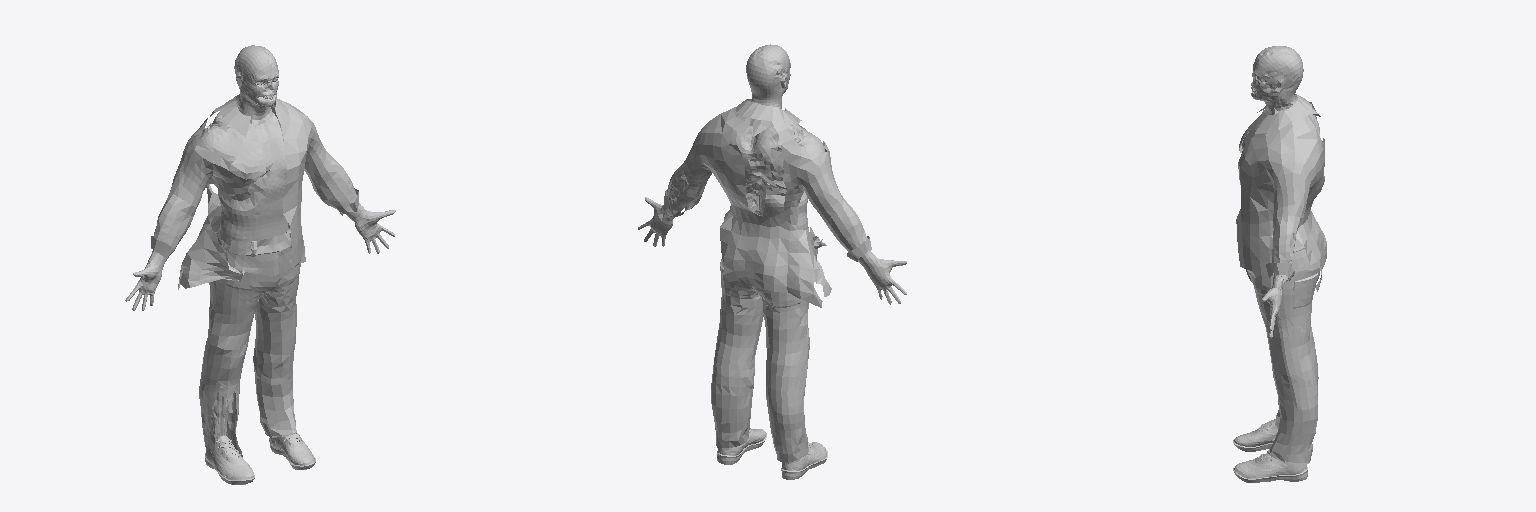
File: zom.obj
The picture shows the model from 3 angles: view 1: azimuth 30°, elevation 25°; view 2: azimuth 150°, elevation 25°; view 3: azimuth 270°, elevation 25°; orthographic projection.
Visible parts, largest first — view 1: zombi; view 2: zombi; view 3: zombi.
Part boxes in pixels (x1,y1,x2,y2): zombi: (125, 45, 395, 484); zombi: (638, 44, 906, 479); zombi: (1233, 46, 1326, 482).
Bounding box in the file's own units: 33.83 × 49.94 × 10.25.